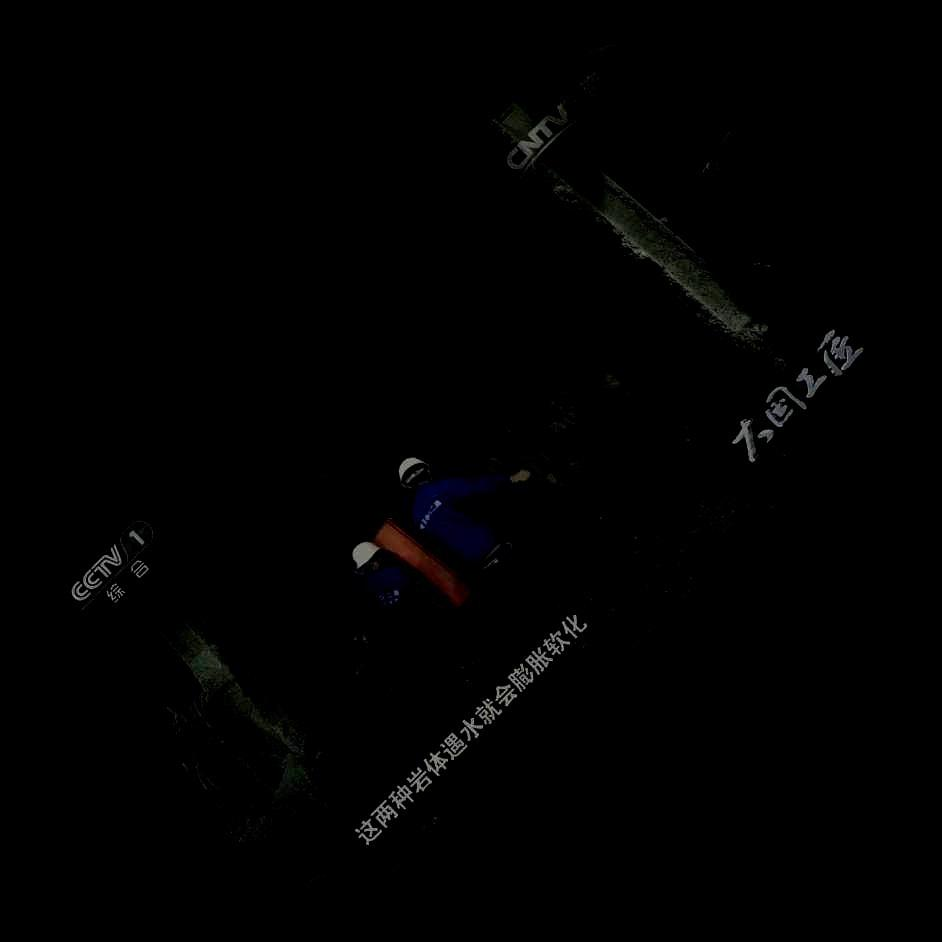helmet: (398, 457, 427, 489), (352, 541, 380, 572)
